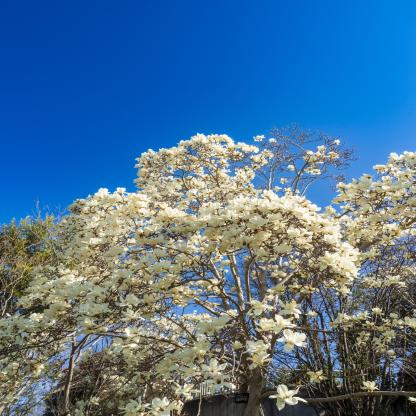Mokuren: (1, 122, 416, 416)
